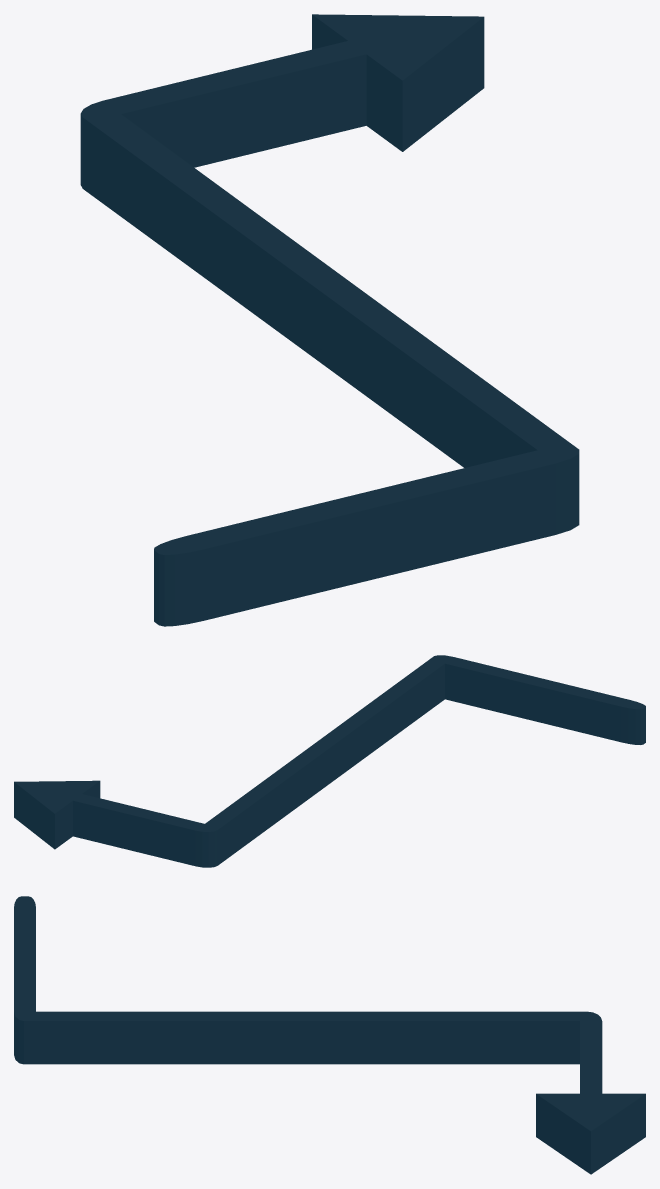
File: arrowUp.gltf
The picture shows the model from 3 angles, top to bottom: view 1: azimuth 30°, elevation 25°; view 2: azimuth 150°, elevation 25°; view 3: azimuth 270°, elevation 25°; orthographic projection. The views are drawn at different scales.
Visible parts, largest first — view 1: Plane.014; view 2: Plane.014; view 3: Plane.014.
Part boxes in pixels (x1,y1,x2,y2): Plane.014: (80, 14, 579, 626); Plane.014: (14, 655, 645, 867); Plane.014: (14, 896, 645, 1174).
Size of the model in its own units: 1.75 by 0.15 by 1.98.
